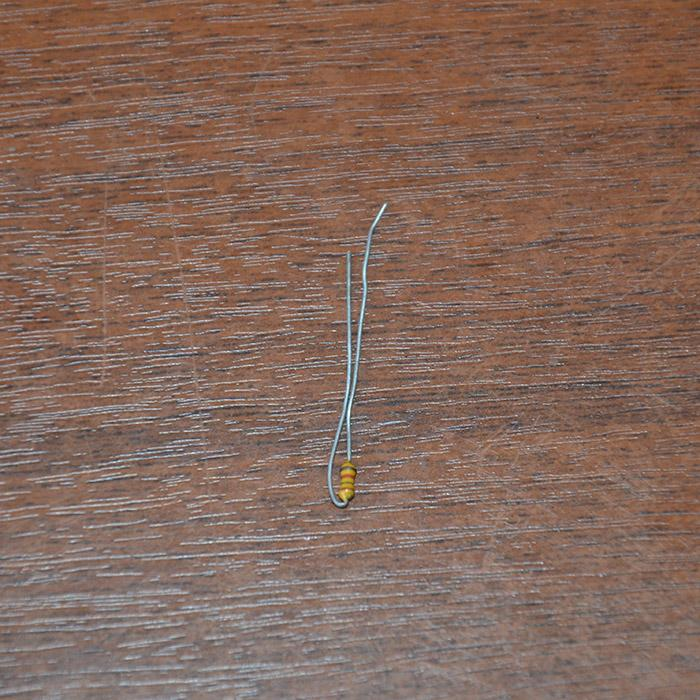resistor: (338, 460, 358, 502)
